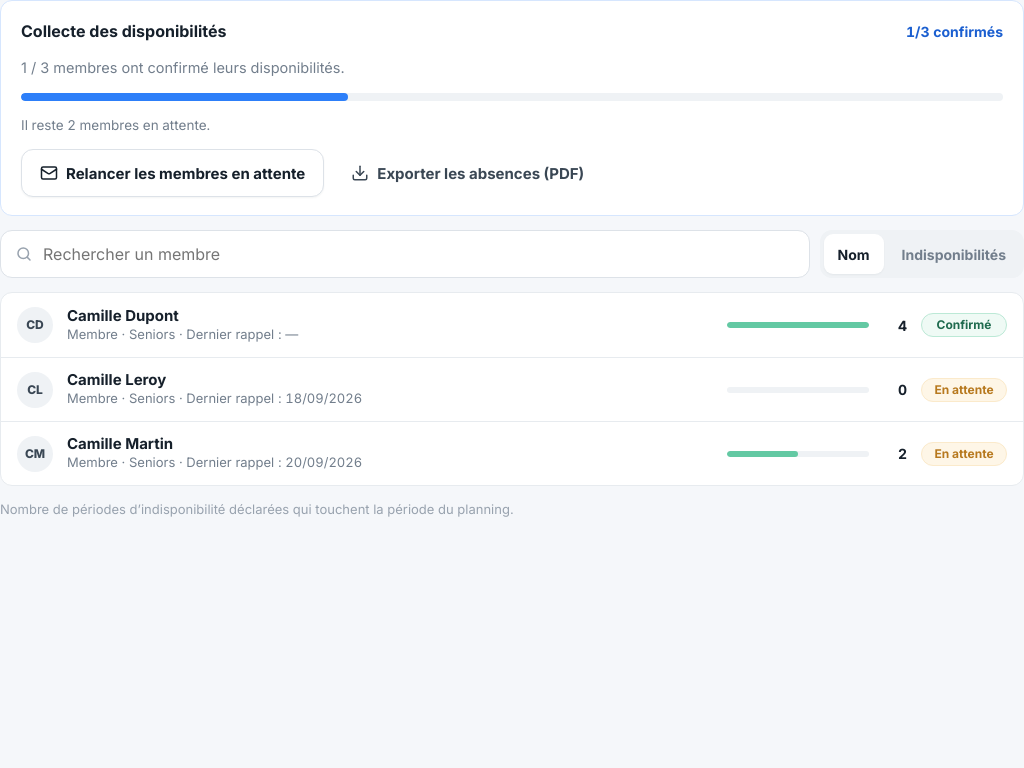
Test: CollectionStatusPanel — member drawer › keeps preferences in their own section, apart from the unavailabilities
Click the button "Camille Martin" at [120, 444], box [67,434,173,453]
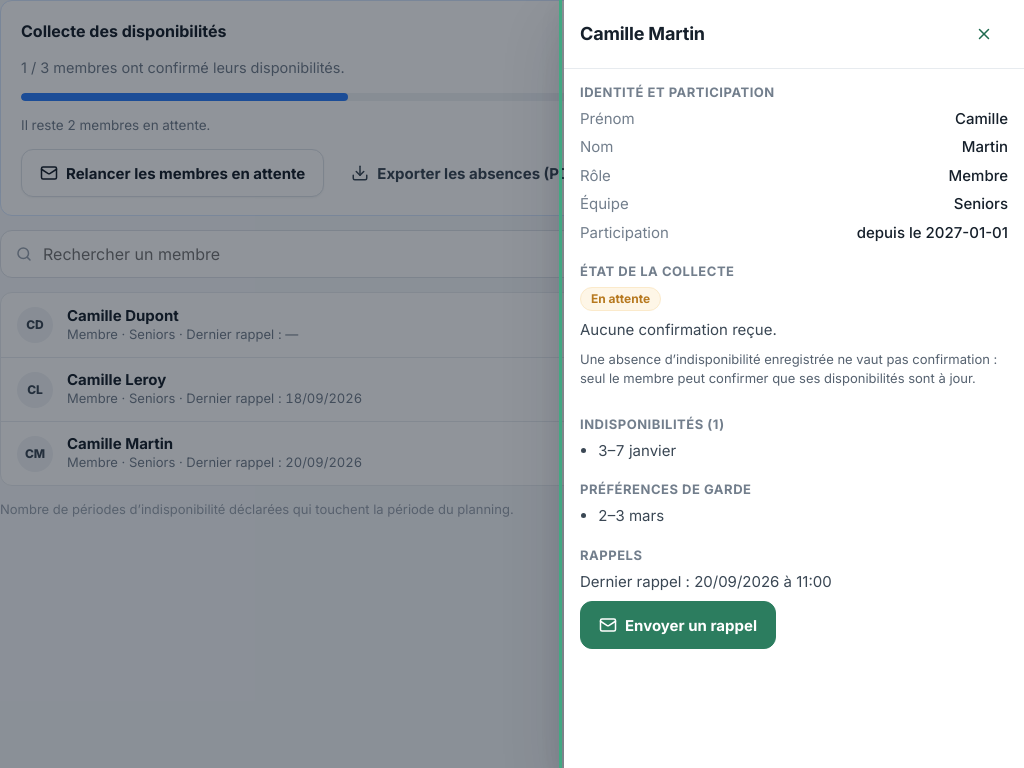
Expected: the heading "Indisponibilités (1)" is shown, [580,416,725,432]
Expected: the list item "2–3 mars" is shown, [598,506,664,525]
